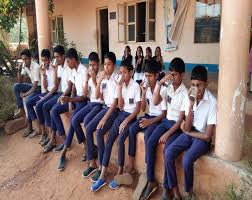student: (188, 69, 205, 98), (167, 62, 183, 87), (143, 62, 159, 87), (116, 61, 134, 83), (101, 52, 116, 74), (85, 51, 100, 73), (64, 49, 76, 69), (51, 47, 65, 64), (38, 49, 51, 66), (19, 50, 31, 67)
